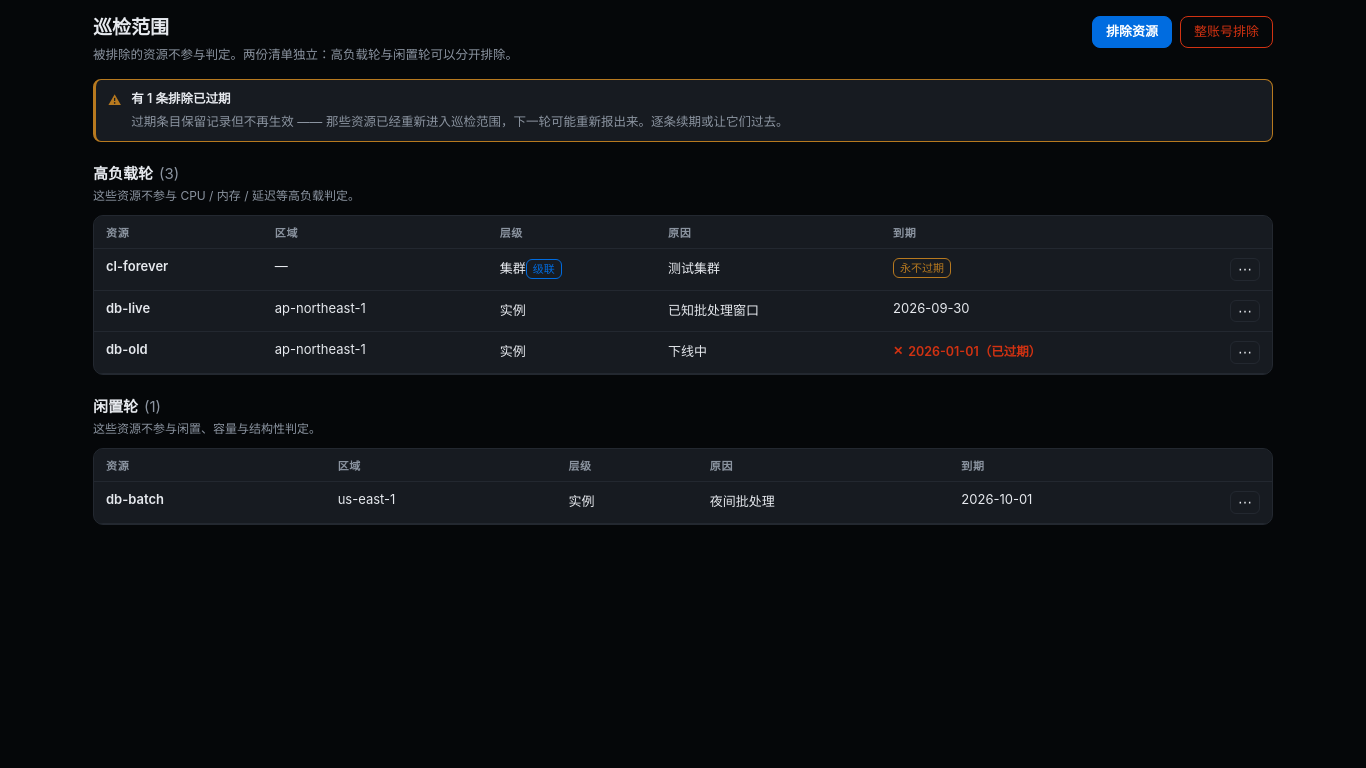
Test: account resolution on the scope page › ★★★ 弹层不许再长出说明文字，且宽度不许缩回去
Check: the text "db-live" is shown, box [94,290,263,332]
Click the button "排除资源".
click(1132, 32)  # box [1092,16,1172,48]
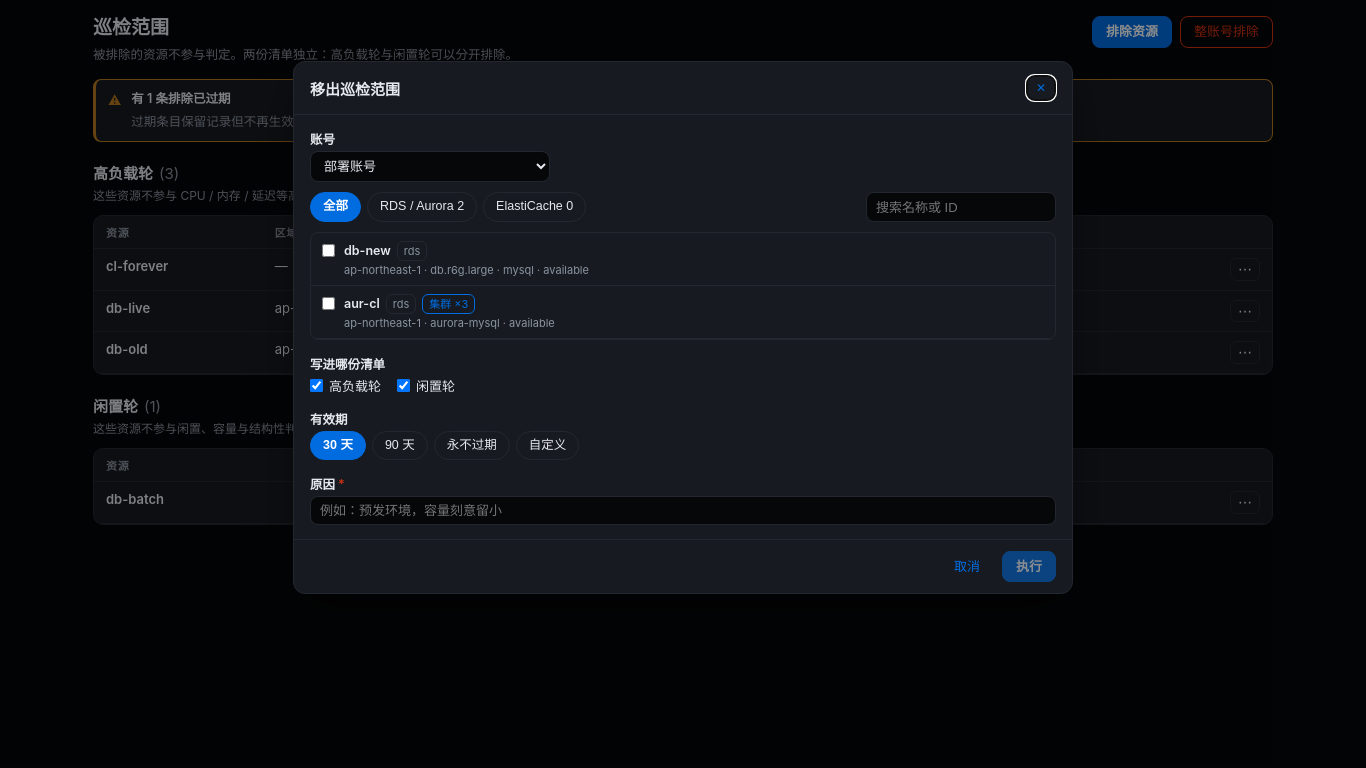
Check: the text "db-new" is shown, box [344,243,391,258]
